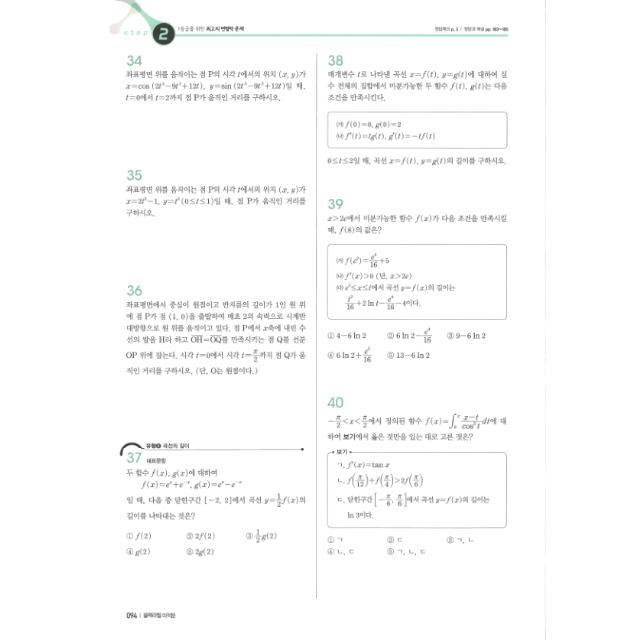multiple: (321, 192, 515, 372), (322, 389, 512, 565), (112, 431, 310, 564)
short: (321, 49, 513, 171), (117, 276, 309, 384), (117, 46, 311, 114), (117, 160, 310, 222)
